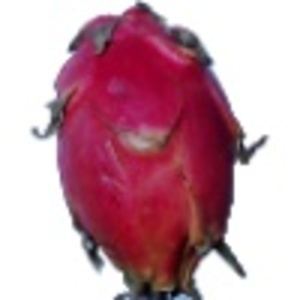pitaia: (31, 1, 267, 300)
